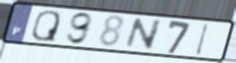7: (166, 19, 191, 55)
8: (97, 13, 126, 49)
9: (64, 12, 96, 46)
I: (194, 22, 211, 57)
N: (123, 17, 165, 52)
Q: (30, 9, 62, 43)
